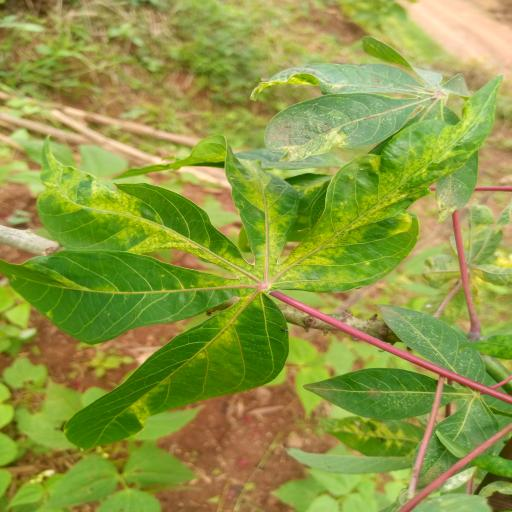Cassava_Mosaic: (8, 81, 506, 459)
